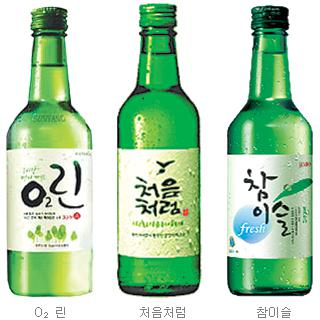soju: (4, 4, 100, 300), (225, 3, 316, 300), (114, 2, 204, 300)
